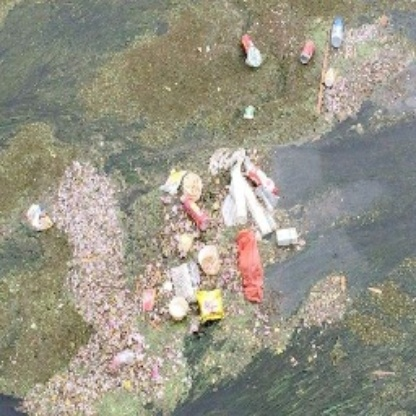bottle: (181, 199, 214, 234), (329, 15, 348, 49), (298, 38, 319, 64)
plastic-bag: (231, 233, 277, 304)
